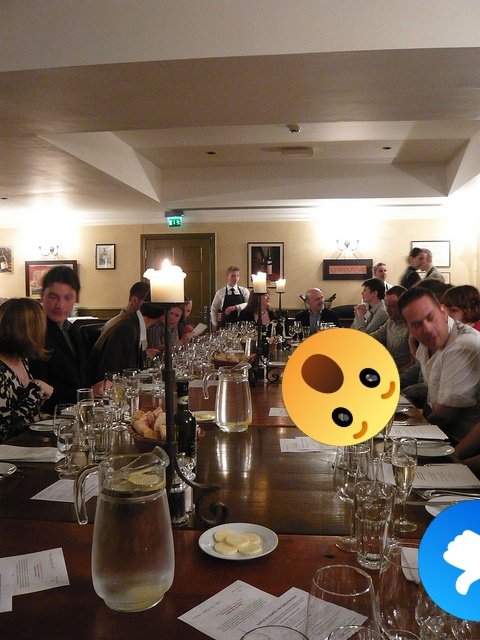like: (418, 500, 480, 621)
wow: (282, 328, 400, 446)
